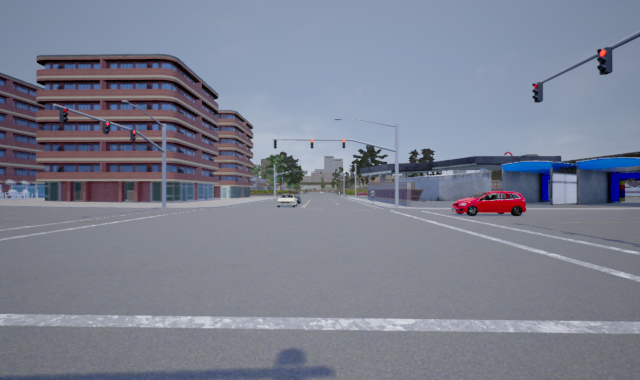vehicle: (447, 191, 531, 216), (277, 194, 297, 209)
